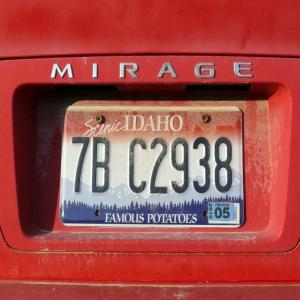Vehicle-registration-plate: (60, 104, 246, 230)
